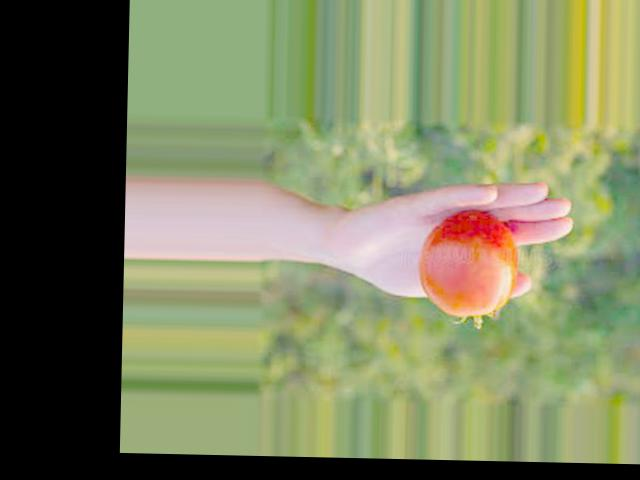tomato: (419, 206, 517, 316)
